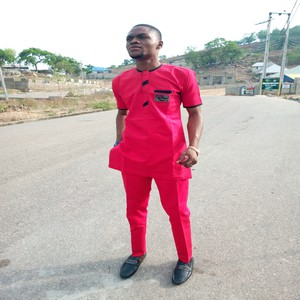Fulokoja_male_student: (112, 25, 200, 277)
